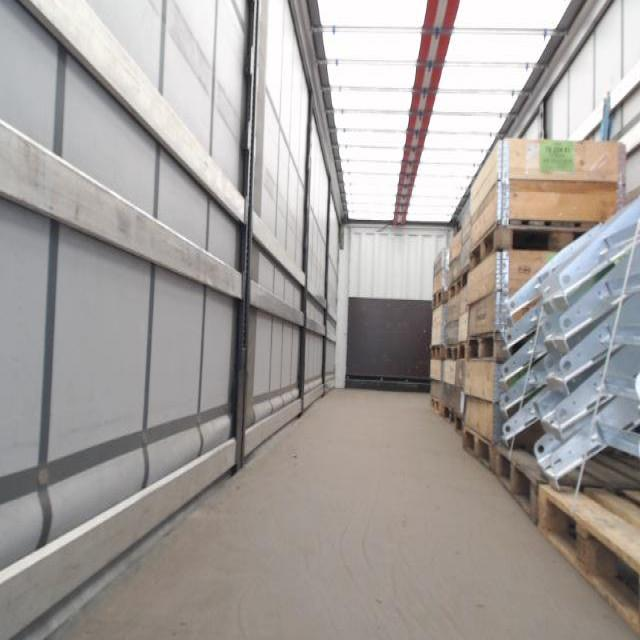pallet: (536, 474, 639, 637), (493, 445, 638, 524), (469, 215, 630, 271), (466, 334, 555, 364), (463, 424, 491, 466), (449, 270, 470, 306), (439, 398, 456, 426), (430, 289, 447, 311), (455, 341, 468, 367), (453, 412, 465, 439), (443, 338, 454, 367), (429, 346, 446, 360), (429, 394, 441, 412)
